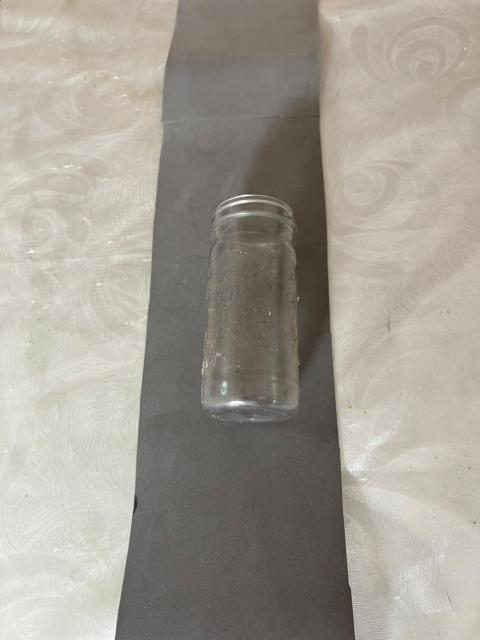PET: (161, 133, 346, 484)
